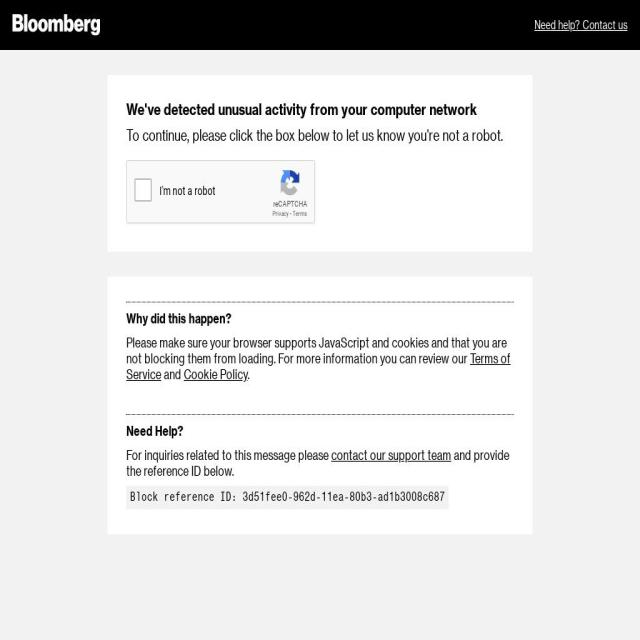button: (534, 0, 628, 50)
heading: (126, 100, 514, 118), (126, 310, 514, 327), (126, 423, 514, 439), (12, 0, 100, 50)
iframe: (126, 160, 316, 225)
link: (126, 350, 511, 382), (331, 447, 451, 462), (184, 366, 248, 382)
text: (126, 334, 507, 366), (127, 447, 510, 478), (126, 486, 449, 509), (126, 126, 514, 143), (126, 447, 332, 462), (161, 366, 184, 382), (248, 366, 250, 382)
